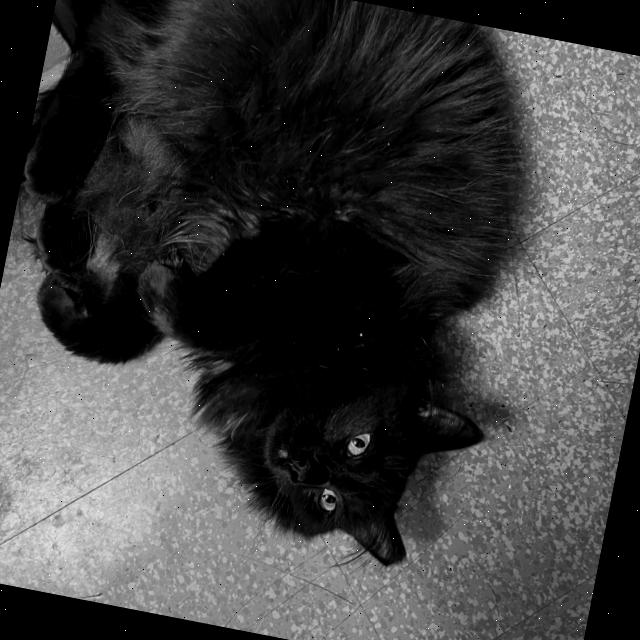domestic_long_hair_cat: (229, 322, 512, 596)
